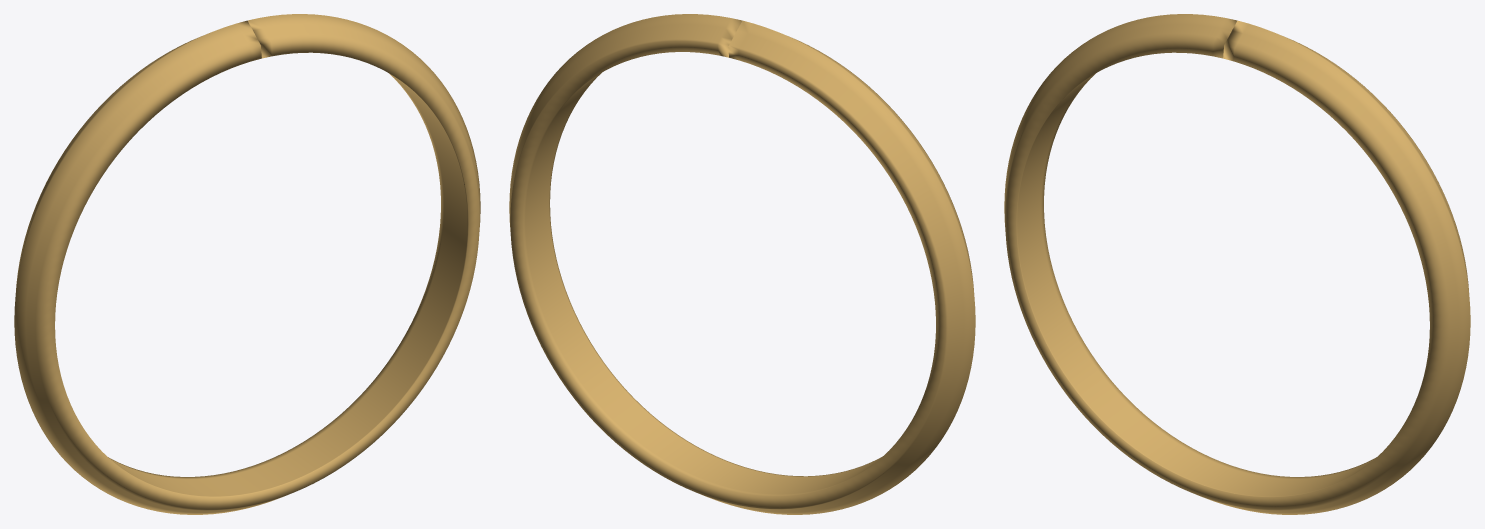
Rendered from bands-knife-edge.glb.
3 renders of one model, left to right at view 1: azimuth 30°, elevation 25°; view 2: azimuth 150°, elevation 25°; view 3: azimuth 330°, elevation 25°, orthographic.
Visible parts, largest first — view 1: Band; view 2: Band; view 3: Band.
Boxes of the visible parts, bbox=[...] form: Band: bbox=[14, 14, 480, 514]; Band: bbox=[509, 14, 975, 514]; Band: bbox=[1004, 14, 1470, 514].
Bounding box in the file's own units: 19.6 × 19.6 × 2.1.
